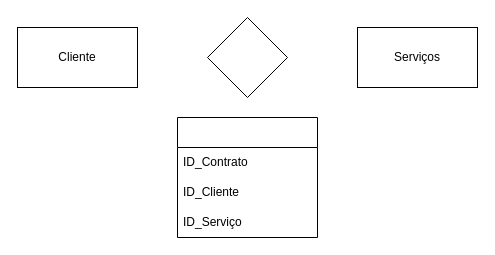
The diagram is 495 pixels wide and 255 high, and some of its shapes have lost their labels. The shapes that lost their labels are listed below. From the top down, each one's box as (x1, y1, x2, y2) in pixels, then its label:
(206, 16, 288, 98): Contrato
(176, 116, 318, 238): List
